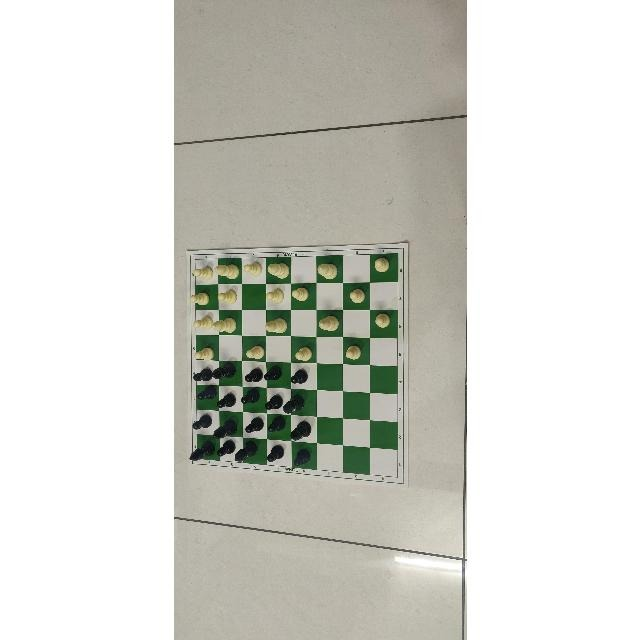black-bishop: (187, 441, 214, 463), (234, 441, 258, 463), (211, 418, 236, 439), (282, 395, 304, 415), (210, 362, 235, 379), (289, 421, 310, 441)
black-pawn: (191, 414, 211, 431), (266, 445, 284, 463), (292, 449, 309, 467), (245, 416, 263, 433), (216, 393, 236, 408), (196, 385, 216, 400), (266, 415, 283, 432), (264, 394, 282, 410), (240, 389, 258, 405), (244, 368, 262, 383), (191, 368, 210, 382), (289, 369, 306, 384), (264, 367, 282, 381)
white-bishop: (262, 317, 287, 334), (214, 263, 238, 279), (211, 317, 236, 332), (265, 263, 288, 279), (317, 315, 339, 331), (316, 263, 337, 279)
white-pawn: (215, 439, 234, 456), (264, 288, 283, 304), (216, 290, 236, 305), (244, 344, 264, 359), (243, 262, 263, 277), (188, 292, 209, 306), (191, 317, 212, 331), (289, 286, 308, 301), (192, 267, 212, 281), (194, 347, 214, 361), (347, 288, 365, 303), (373, 257, 389, 273), (343, 345, 360, 360), (373, 313, 390, 328), (294, 347, 312, 361)
